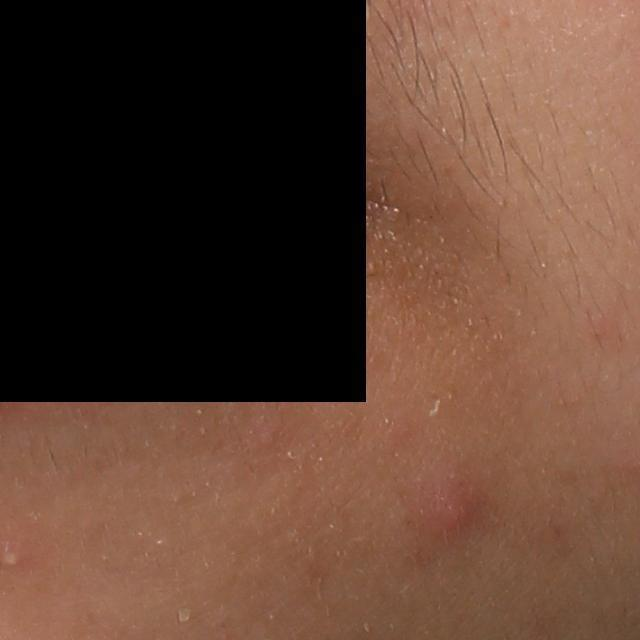papule: (418, 483, 478, 533)
